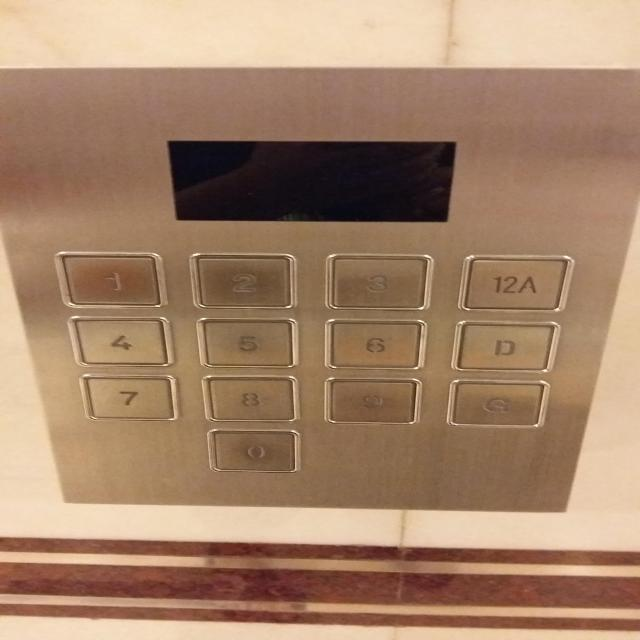0: (202, 426, 306, 476)
1: (50, 248, 172, 310)
12A: (456, 251, 574, 314)
2: (185, 250, 299, 311)
3: (321, 250, 435, 311)
4: (66, 313, 174, 370)
5: (194, 314, 302, 372)
6: (321, 317, 429, 372)
7: (77, 371, 183, 424)
8: (197, 373, 305, 425)
9: (318, 375, 427, 427)
D: (445, 318, 564, 374)
G: (443, 377, 551, 430)
led: (162, 135, 460, 226)
